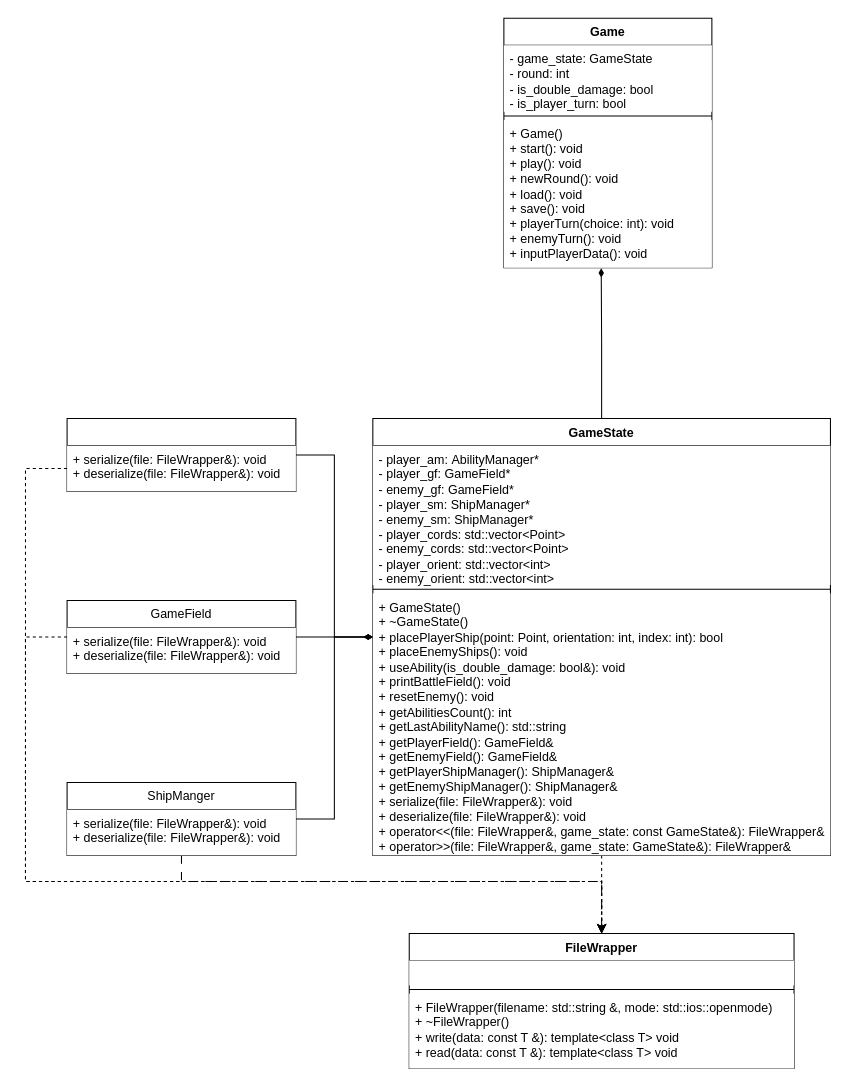
The diagram is 849 pixels wide and 1090 high, and some of its shapes have lost their labels. Each missing label, with the box of its shape:
- file: std::fstream: (409, 960, 794, 985)
AbilityManager: (66, 418, 296, 491)
